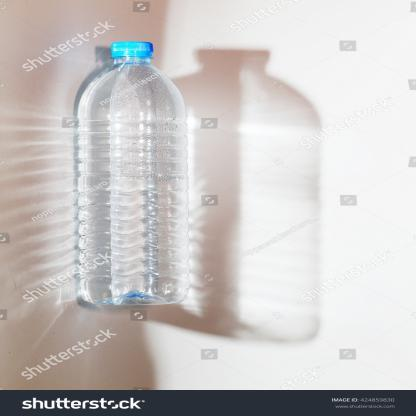plastic_bottle: (76, 40, 194, 310)
